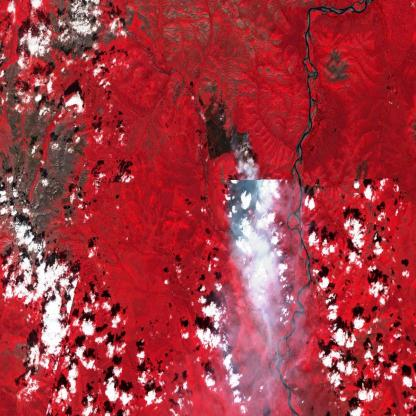fire: (227, 122, 251, 161)
